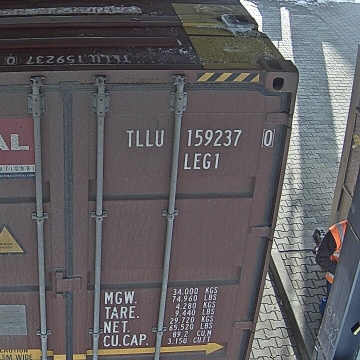serial_id: (127, 129, 272, 146)
